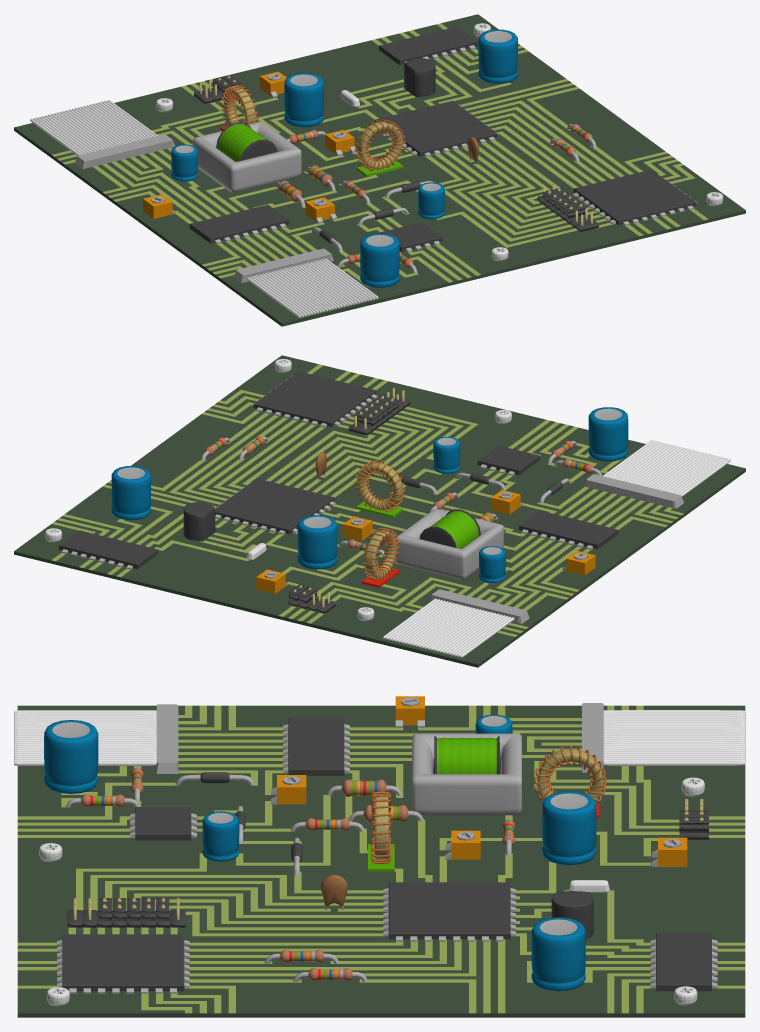
Rendered from circuitboardFinal.glb.
3 views of the same model, one above another, from view 1: azimuth 30°, elevation 25°; view 2: azimuth 150°, elevation 25°; view 3: azimuth 270°, elevation 25° (orthographic). The views are drawn at different scales.
Visible parts, largest first — view 1: board, transformer, Ribbon Cable, CHIP.001, Ribbon Cable.001, CHIP, DIP.001, DIP, Capacitor2.002, Capacitor2, Capacitor2.001, connector.001 (+15 smaller); view 2: board, transformer, Ribbon Cable.001, CHIP.001, CHIP, Ribbon Cable, DIP, DIP.001, Capacitor2.002, Capacitor2, Capacitor2.001, connector (+16 smaller); view 3: board, transformer, Ribbon Cable.001, CHIP, CHIP.001, Ribbon Cable, DIP.001, DIP, Capacitor2.001, Capacitor2, Capacitor2.002, DIP.002 (+24 smaller).
Part boxes in pixels (x1=…): board: x1=14, y1=14, x2=745, y2=326; transformer: x1=192, y1=121, x2=301, y2=192; Ribbon Cable: x1=246, y1=258, x2=378, y2=317; CHIP.001: x1=573, y1=169, x2=697, y2=225; Ribbon Cable.001: x1=30, y1=100, x2=158, y2=155; CHIP: x1=375, y1=100, x2=498, y2=156; DIP.001: x1=189, y1=205, x2=288, y2=243; DIP: x1=379, y1=26, x2=478, y2=64; Capacitor2.002: x1=360, y1=233, x2=399, y2=287; Capacitor2: x1=284, y1=73, x2=323, y2=127; Capacitor2.001: x1=478, y1=29, x2=517, y2=83; connector.001: x1=75, y1=134, x2=174, y2=168; board: x1=14, y1=355, x2=745, y2=667; transformer: x1=395, y1=509, x2=503, y2=580; Ribbon Cable.001: x1=383, y1=598, x2=514, y2=657; CHIP.001: x1=253, y1=371, x2=377, y2=427; CHIP: x1=215, y1=478, x2=335, y2=534; Ribbon Cable: x1=603, y1=440, x2=730, y2=496; DIP: x1=59, y1=530, x2=158, y2=569; DIP.001: x1=519, y1=510, x2=618, y2=549; Capacitor2.002: x1=588, y1=407, x2=628, y2=461; Capacitor2: x1=297, y1=515, x2=337, y2=569; Capacitor2.001: x1=111, y1=466, x2=150, y2=520; connector: x1=583, y1=474, x2=683, y2=508; board: x1=17, y1=705, x2=745, y2=1017; transformer: x1=412, y1=733, x2=521, y2=815; Ribbon Cable.001: x1=603, y1=710, x2=745, y2=765; CHIP: x1=383, y1=882, x2=515, y2=941; CHIP.001: x1=57, y1=934, x2=189, y2=993; Ribbon Cable: x1=14, y1=710, x2=156, y2=765; DIP.001: x1=283, y1=717, x2=349, y2=775; DIP: x1=650, y1=933, x2=717, y2=991; Capacitor2.001: x1=531, y1=917, x2=585, y2=991; Capacitor2: x1=542, y1=791, x2=596, y2=865; Capacitor2.002: x1=44, y1=720, x2=98, y2=793; DIP.002: x1=130, y1=807, x2=196, y2=840.
Bounding box in the file's own units: 10 × 1.08 × 10.06.
